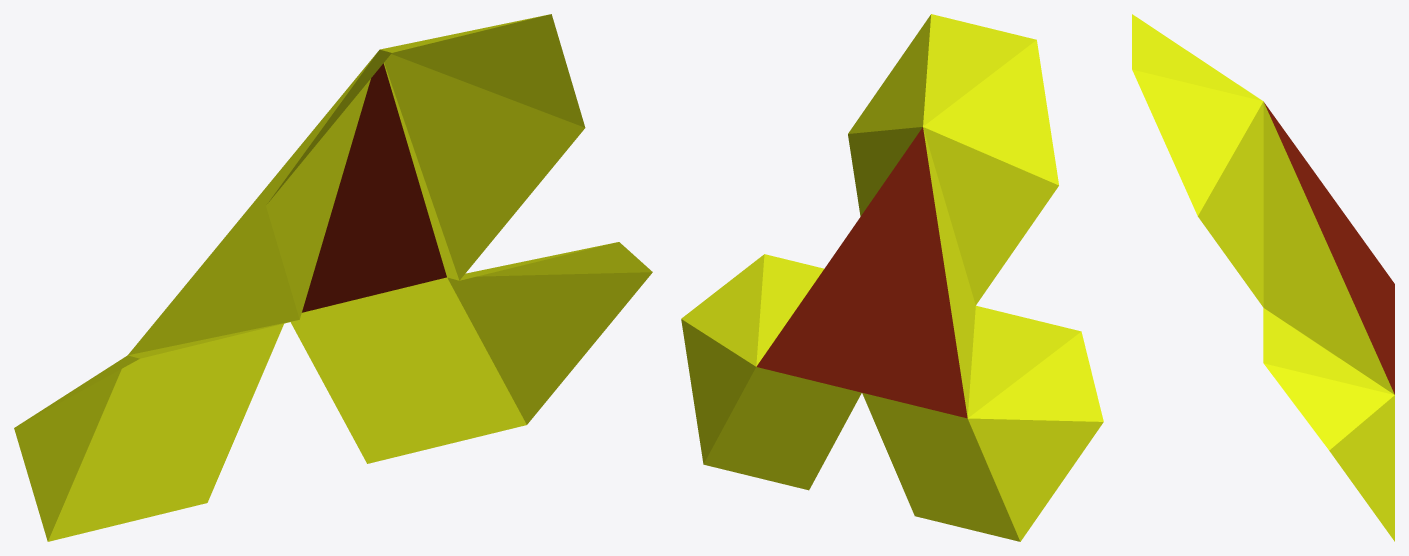
File: npc_world_grail_maiden_6.obj
The picture shows the model from 3 angles, left to right: view 1: azimuth 30°, elevation 25°; view 2: azimuth 150°, elevation 25°; view 3: azimuth 270°, elevation 25°; orthographic projection. The views are drawn at different scales.
Size of the model in its own units: 0.0625 by 0.0547 by 0.0312.
